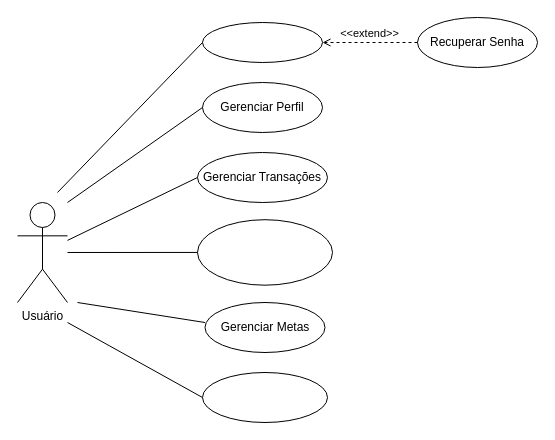
Image size: 555x440. Some labels were removed from this diagram. Here are the shapes that lost their labels. From the top down, the centre of each, then its label:
At (x=262, y=42): "Autenticar-se".
At (x=264, y=252): "Visualizar Dashboard Financeiro".
At (x=265, y=397): "Gerenciar Investimentos".
